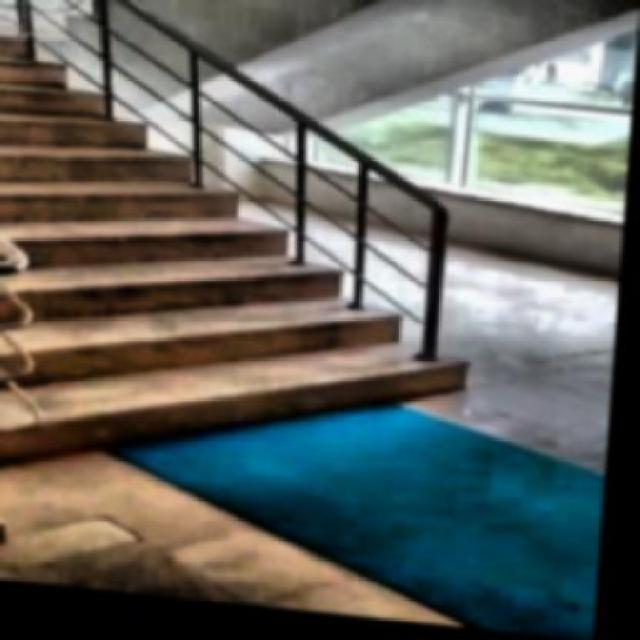stair: (2, 25, 496, 512)
